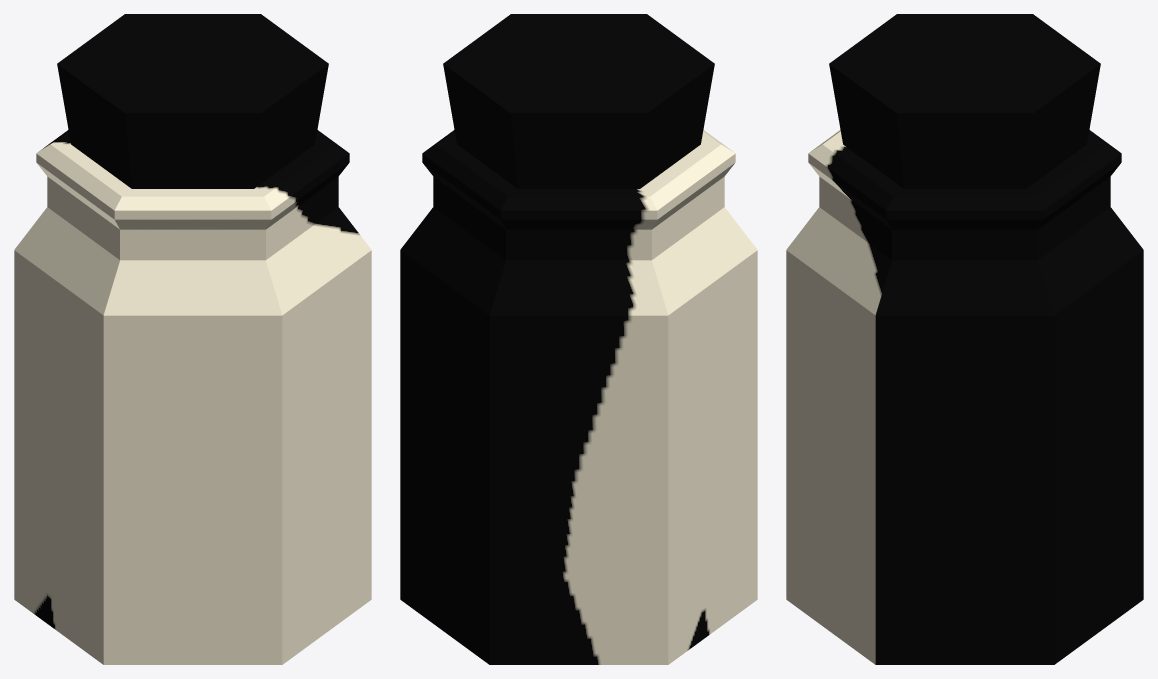
The model's file is vial.obj.
The picture shows the model from 3 angles, left to right: view 1: azimuth 30°, elevation 25°; view 2: azimuth 150°, elevation 25°; view 3: azimuth 270°, elevation 25°; orthographic projection.
Visible parts, largest first — view 1: Circle; view 2: Circle; view 3: Circle.
Part boxes in pixels (<box>): Circle: <box>14,14,371,664</box>; Circle: <box>400,14,757,664</box>; Circle: <box>786,14,1143,664</box>.
Bounding box in the file's own units: 1.73 × 3.31 × 2.
